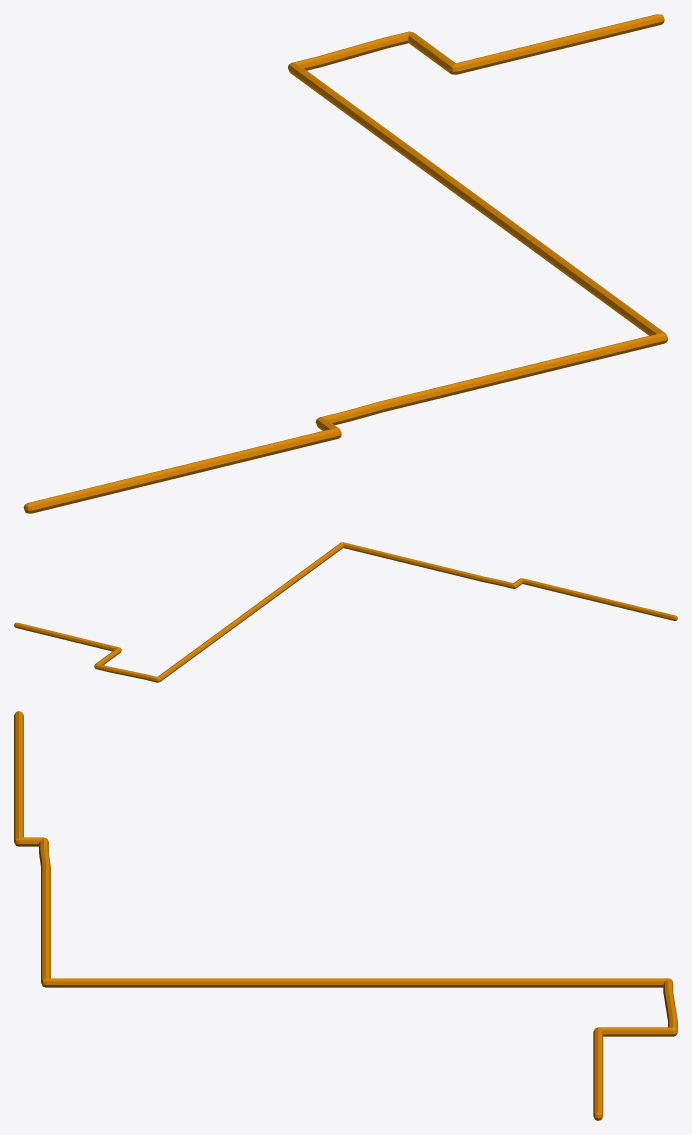
The picture shows the model from 3 angles, top to bottom: view 1: azimuth 30°, elevation 25°; view 2: azimuth 150°, elevation 25°; view 3: azimuth 270°, elevation 25°; orthographic projection. The views are drawn at different scales.
Size of the model in its own units: 1923 by 20 by 1333.
